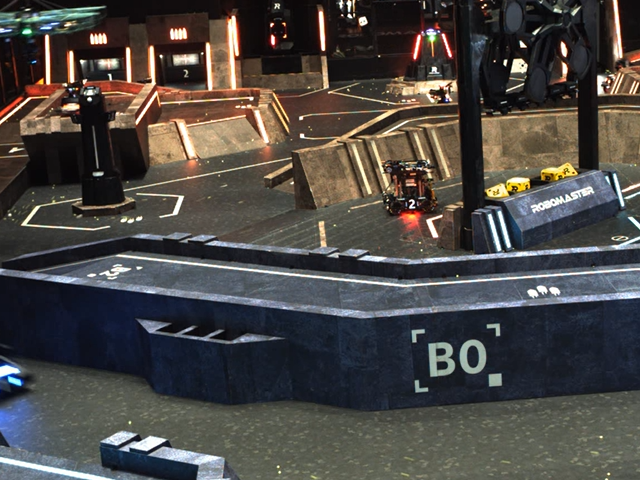rm: (382, 160, 442, 218), (428, 80, 456, 105)
